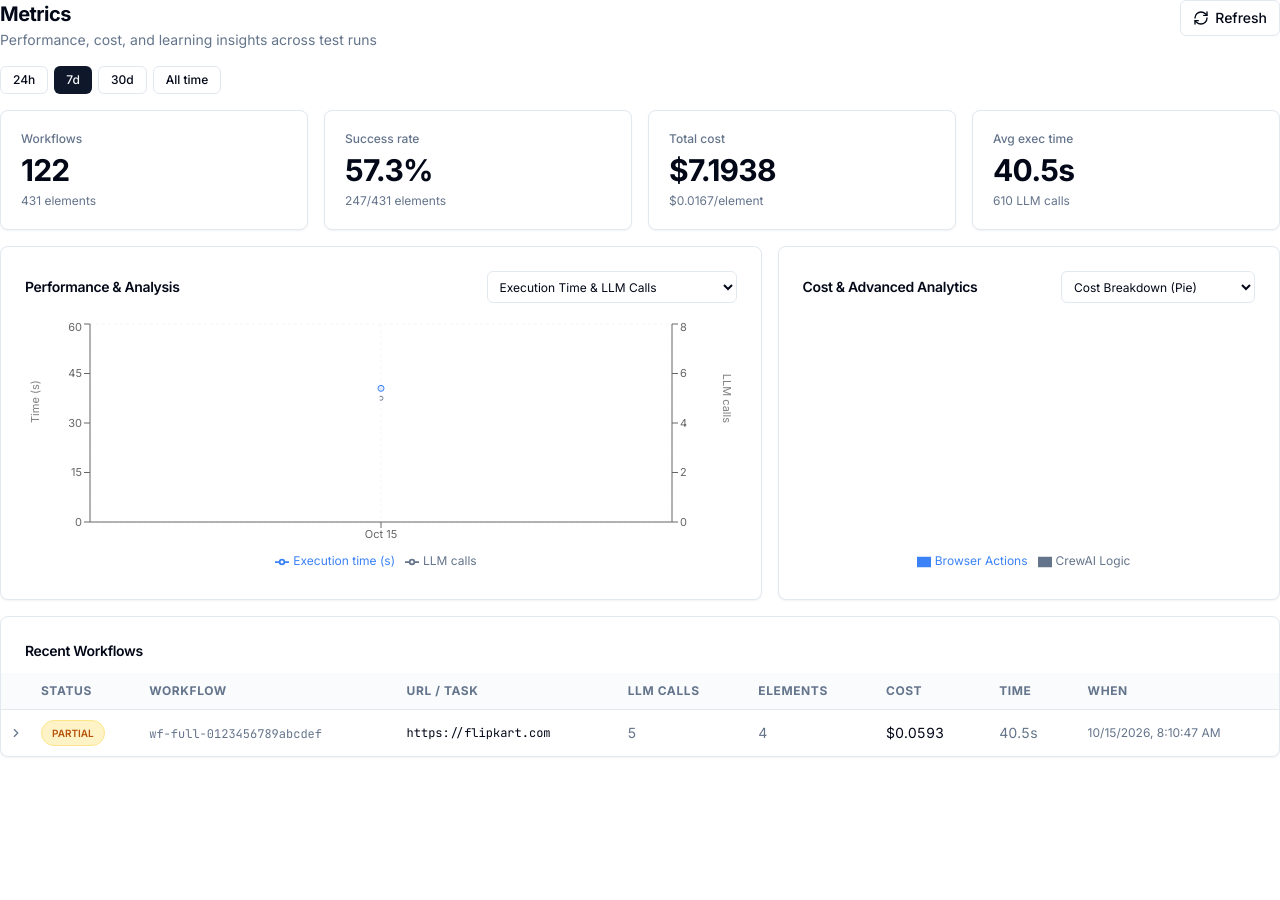
Test: MetricsPage — the recent-runs table › renders token counts with thousands separators
Click the text "https://flipkart.com" at coordinates (478, 733), box [406,725,550,741]
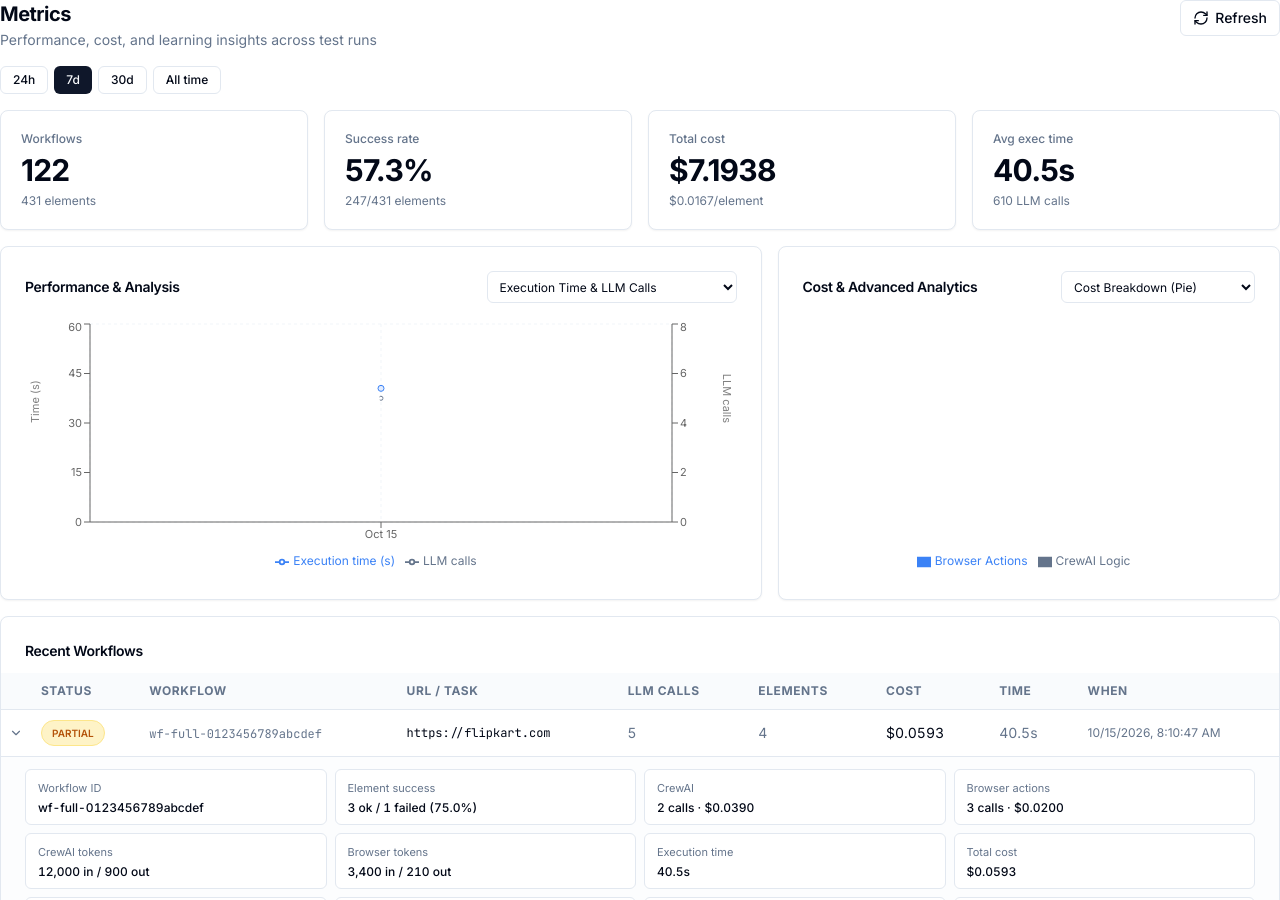
Check: the text "12,000 in / 900 out" is shown, box [38,864,150,879]
